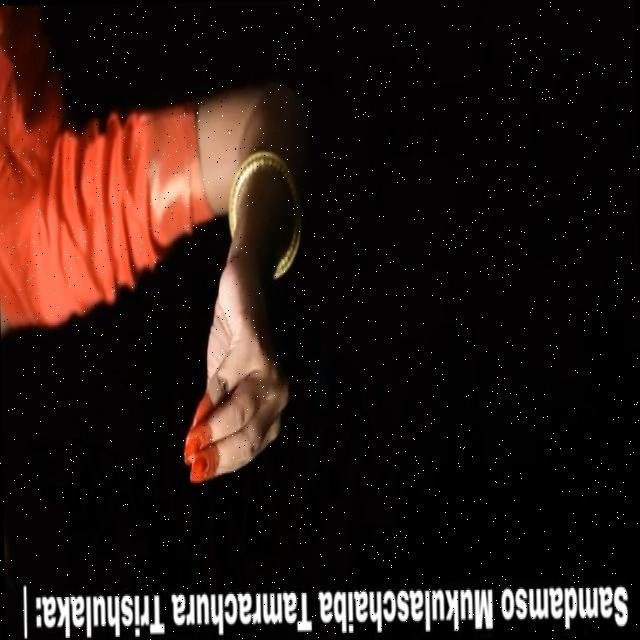Mukula: (163, 262, 300, 498)
bangle: (221, 146, 313, 260)
text: (17, 562, 632, 640)
